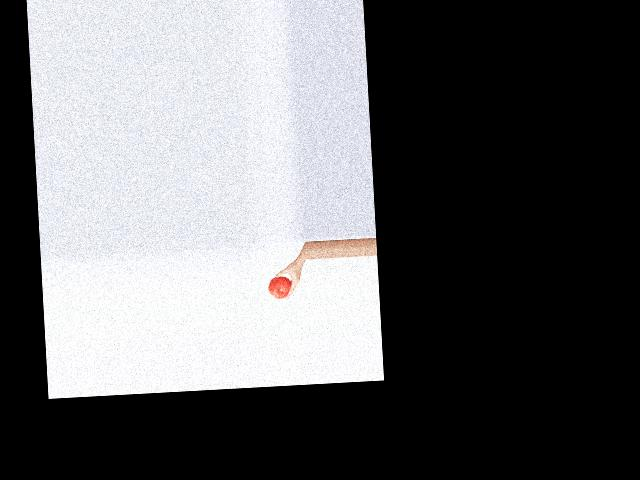tomato: (268, 276, 291, 299)
